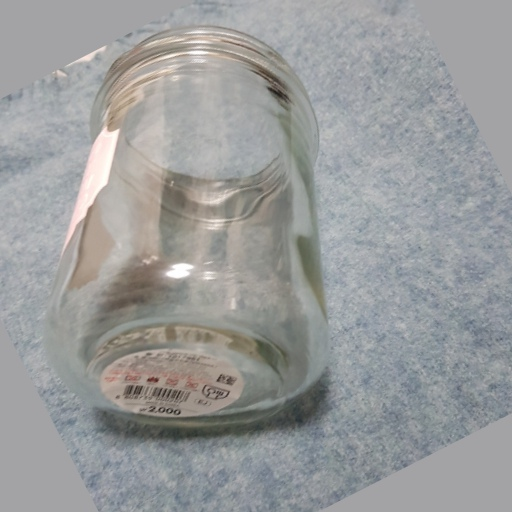Glass_5: (47, 35, 326, 427)
